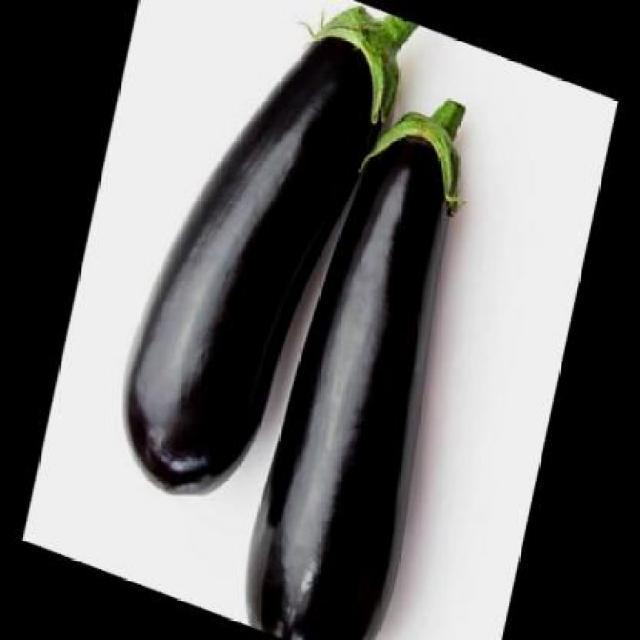eggplant: (119, 2, 430, 503), (246, 96, 472, 639)
